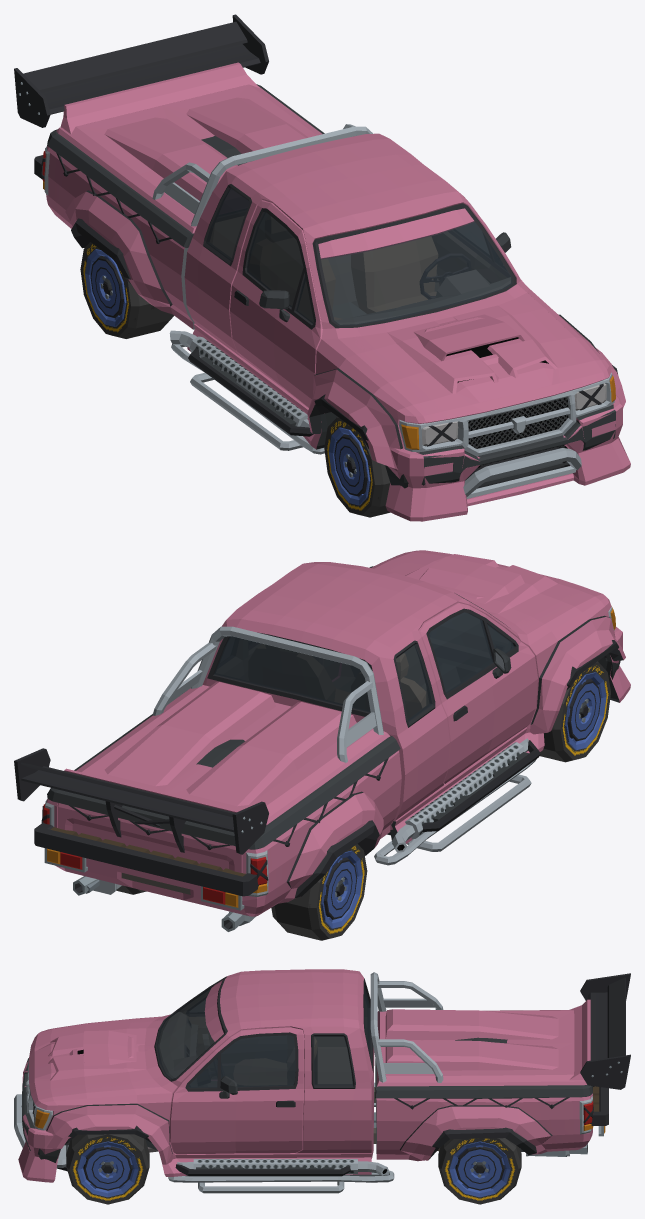
The model's file is redline_street_ute.glb.
3 renders of one model, top to bottom at view 1: azimuth 30°, elevation 25°; view 2: azimuth 150°, elevation 25°; view 3: azimuth 270°, elevation 25°, orthographic. The views are drawn at different scales.
Visible parts, largest first — view 1: Body, V_Spoiler_01, Glass, Door_R, V_Bonnet_03, V_Spoiler_02, V_Front_Bumper_04, V_Bonnet_01, V_Rear_Bumper_02, V_Rear_Bumper_03, V_Fenders_02, V_Front_Bumper_01 (+15 smaller); view 2: Body, V_Spoiler_01, Door_R, V_Rear_Bumper_03, V_Rear_Bumper_02, Glass, V_Spoiler_02, V_Rear_Bumper_04, V_Rear_Bumper_01, V_Rollcage_01, V_Fenders_02, V_Bonnet_03 (+13 smaller); view 3: Body, V_Spoiler_01, Door_L, V_Rear_Bumper_02, V_Rear_Bumper_03, Glass, V_Bonnet_03, V_Spoiler_02, V_Fenders_02, W_Wheel_FL_03, V_Rollcage_01, V_Bonnet_01 (+19 smaller).
Part boxes in pixels (left/top/right/bottom): Body: left=184, top=133, right=615, bottom=456; V_Spoiler_01: left=56, top=62, right=322, bottom=233; Glass: left=206, top=188, right=512, bottom=325; Door_R: left=230, top=200, right=322, bottom=408; V_Bonnet_03: left=356, top=291, right=583, bottom=418; V_Spoiler_02: left=14, top=14, right=268, bottom=127; V_Front_Bumper_04: left=385, top=395, right=630, bottom=521; V_Bonnet_01: left=335, top=284, right=604, bottom=423; V_Rear_Bumper_02: left=42, top=147, right=193, bottom=329; V_Rear_Bumper_03: left=43, top=84, right=324, bottom=329; V_Fenders_02: left=307, top=314, right=625, bottom=469; V_Front_Bumper_01: left=385, top=404, right=615, bottom=488; Body: left=202, top=550, right=615, bottom=829; V_Spoiler_01: left=64, top=682, right=390, bottom=824; Door_R: left=418, top=602, right=537, bottom=783; V_Rear_Bumper_03: left=43, top=714, right=401, bottom=916; V_Rear_Bumper_02: left=43, top=755, right=399, bottom=916; Glass: left=214, top=636, right=432, bottom=722; V_Spoiler_02: left=14, top=748, right=268, bottom=854; V_Rear_Bumper_04: left=34, top=823, right=259, bottom=910; V_Rear_Bumper_01: left=44, top=750, right=401, bottom=916; V_Rollcage_01: left=152, top=626, right=383, bottom=762; V_Fenders_02: left=369, top=566, right=625, bottom=734; V_Bonnet_03: left=389, top=553, right=580, bottom=625; Body: left=26, top=969, right=374, bottom=1158; V_Spoiler_01: left=376, top=999, right=590, bottom=1086; Door_L: left=170, top=1027, right=304, bottom=1154; V_Rear_Bumper_02: left=376, top=1096, right=593, bottom=1161; V_Rear_Bumper_03: left=375, top=1037, right=594, bottom=1160; Glass: left=157, top=986, right=370, bottom=1085; V_Bonnet_03: left=29, top=1020, right=163, bottom=1094; V_Spoiler_02: left=580, top=973, right=630, bottom=1089; V_Fenders_02: left=44, top=1103, right=173, bottom=1164; W_Wheel_FL_03: left=66, top=1134, right=149, bottom=1204; V_Rollcage_01: left=370, top=972, right=443, bottom=1082; V_Bonnet_01: left=29, top=1014, right=170, bottom=1103.
Size of the model in its own units: 1.76 by 1.44 by 4.75.
Materials: 5 (3 with a texture image).
